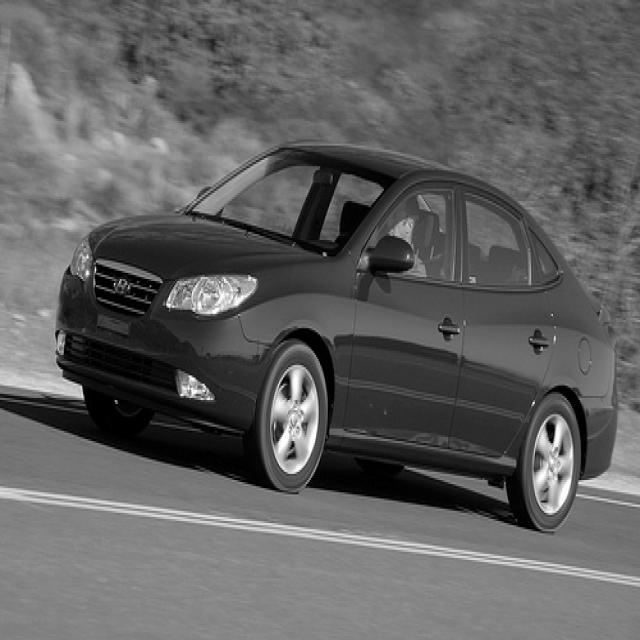car: (54, 138, 618, 532)
